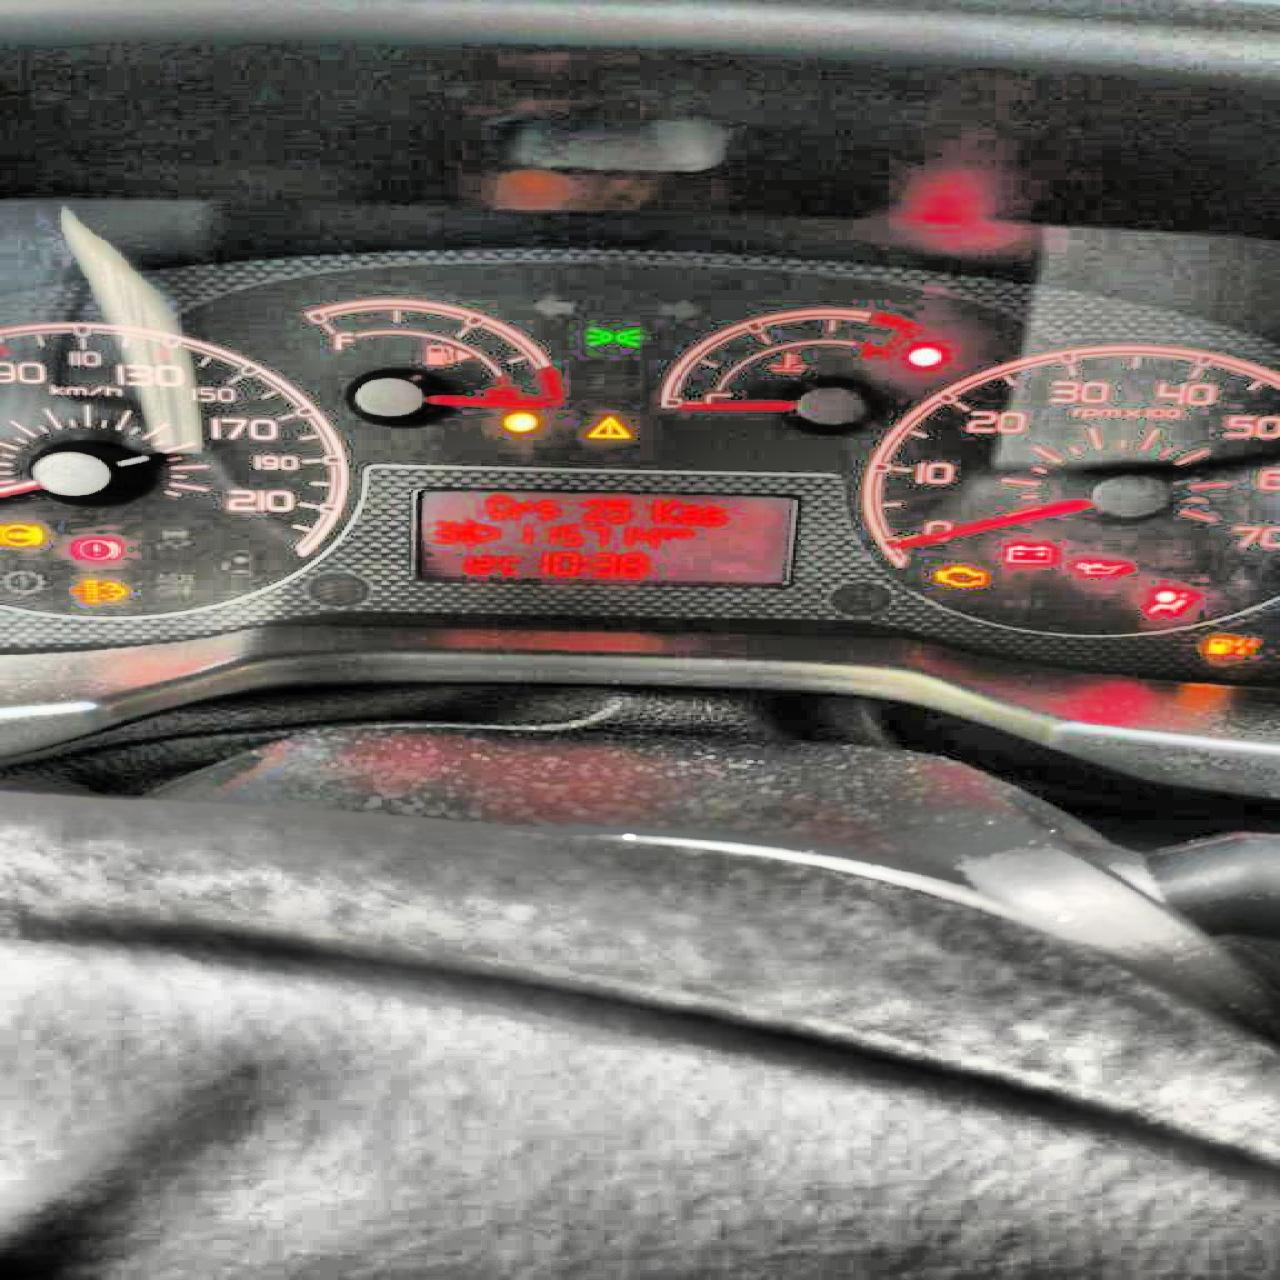0: (549, 550, 578, 576)
1: (622, 525, 633, 547), (538, 551, 549, 573), (520, 524, 531, 544), (546, 525, 556, 543), (462, 556, 471, 573)
2: (580, 497, 605, 522), (471, 557, 493, 572)
3: (588, 552, 615, 577), (434, 522, 458, 543)
4: (633, 526, 658, 547)
5: (605, 497, 628, 523), (558, 524, 580, 545)
7: (585, 525, 606, 545)
8: (618, 552, 645, 577)
X: (652, 497, 678, 524), (484, 495, 509, 520), (506, 501, 533, 520), (533, 497, 558, 518), (675, 505, 700, 524), (700, 505, 724, 524), (498, 557, 518, 573), (578, 556, 588, 570)
odometer: (407, 486, 797, 587)
